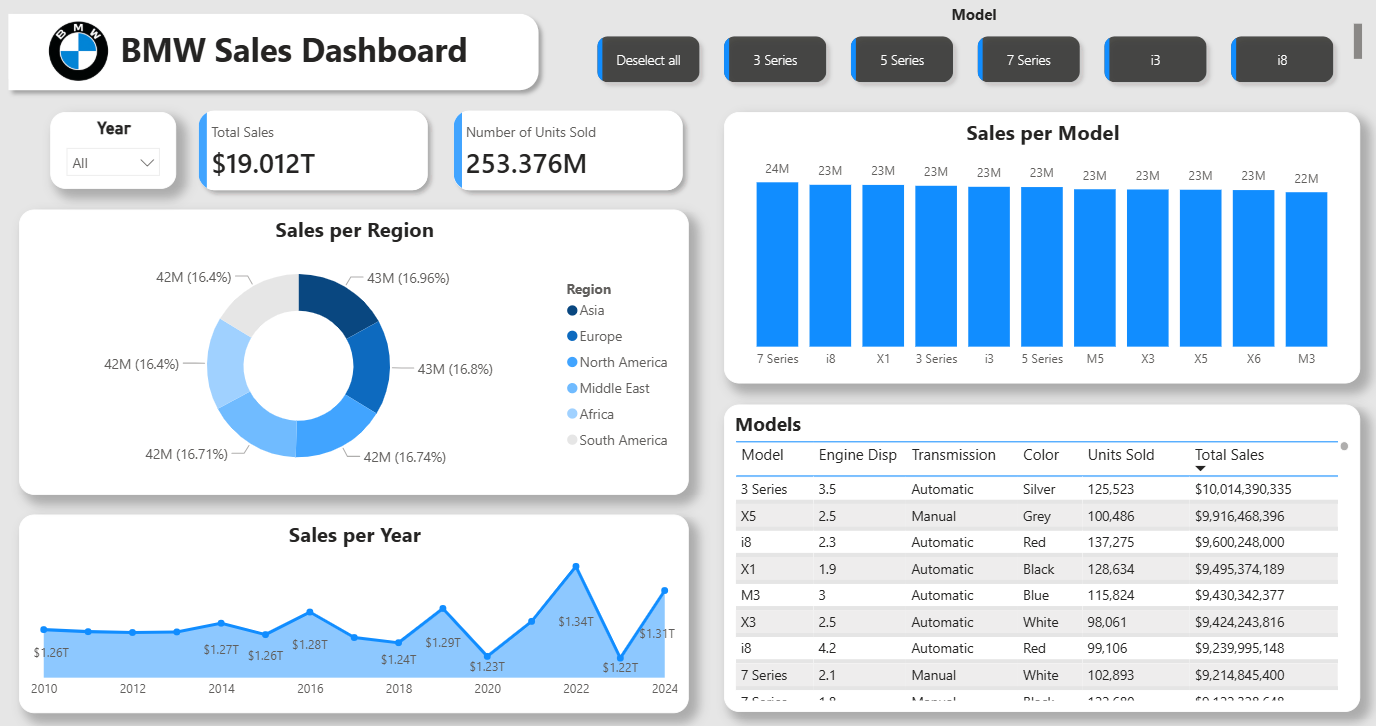

Layout of this report page (visuals, bound fields, positions):
{"tool":"powerbi","page":{"name":"BMW Sales Dashboard (2010-2024","canvas":[1350,720],"ordinal":0},"visuals":[{"type":"shape","box":[0,7.3,536.8,92.9],"z":500},{"type":"stackedAreaChart","title":"Sales per Year","fields":{"Category":["BMW sales data (2010-2024).Year"],"Y":["Sum(BMW sales data (2010-2024).Sales)"]},"box":[19.6,506.3,655.4,194.4],"z":1000},{"type":"columnChart","title":"Sales per Model","fields":{"Category":["BMW sales data (2010-2024).Model"],"Y":["Sum(BMW sales data (2010-2024).Sales_Volume)"]},"box":[709.2,112.5,622.4,265.4],"z":2000},{"type":"donutChart","title":"Sales per Region","fields":{"Category":["BMW sales data (2010-2024).Region"],"Y":["Sum(BMW sales data (2010-2024).Sales_Volume)"]},"box":[19.6,207.9,655.4,278.8],"z":3000},{"type":"slicer","title":"Year","fields":{"Values":["BMW sales data (2010-2024).Year"]},"box":[50.7,112.9,123,75.3],"z":4000},{"type":"advancedSlicerVisual","title":"Model","fields":{"Values":["BMW sales data (2010-2024).Model"]},"box":[568.6,6.1,770.4,94.2],"z":5000},{"type":"tableEx","title":"Models","fields":{"Values":["BMW sales data (2010-2024).Model","BMW sales data (2010-2024).Engine_Size_L","BMW sales data (2010-2024).Transmission","BMW sales data (2010-2024).Color","Sum(BMW sales data (2010-2024).Sales_Volume)","Sum(BMW sales data (2010-2024).Sales)"]},"box":[709.2,398.6,622.4,300.8],"z":6000},{"type":"textbox","box":[113.7,24.5,413.3,52.6],"z":7000},{"type":"image","box":[30.4,11.6,94.1,83.9],"z":8000},{"type":"cardVisual","fields":{"Data":["BMW sales data (2010-2024).Total Sales","BMW sales data (2010-2024).Number of Units Sold"]},"box":[178,94.1,508,112.9],"z":9000}]}

Visuals, with their boxes in screenshot pixels (x1, y1, x2, y2), scaled from the page's 1350x720 canvas onto the 1376x726 screenshot:
shape: [0,7,547,101]
"Sales per Year" stackedAreaChart: [20,511,688,707]
"Sales per Model" columnChart: [723,113,1357,381]
"Sales per Region" donutChart: [20,210,688,491]
"Year" slicer: [52,114,177,190]
"Model" advancedSlicerVisual: [580,6,1365,101]
"Models" tableEx: [723,402,1357,705]
textbox: [116,25,537,78]
image: [31,12,127,96]
cardVisual - BMW sales data (2010-2024).Total Sales x BMW sales data (2010-2024).Number of Units Sold: [181,95,699,209]
